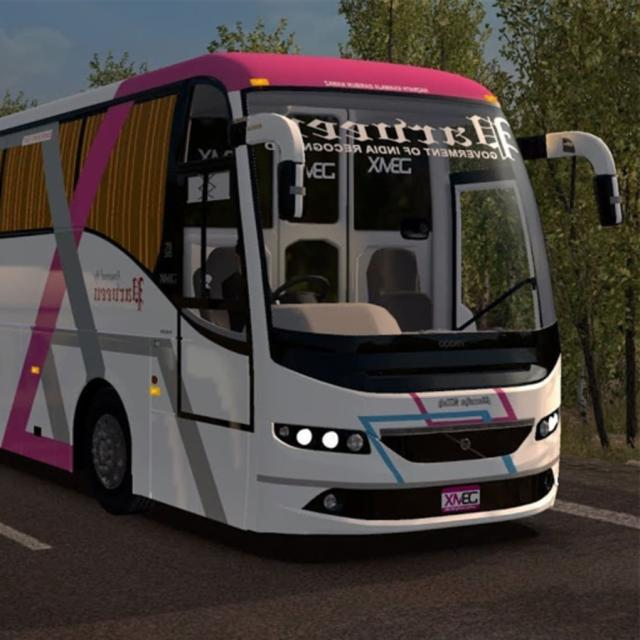bus: (0, 55, 621, 534)
